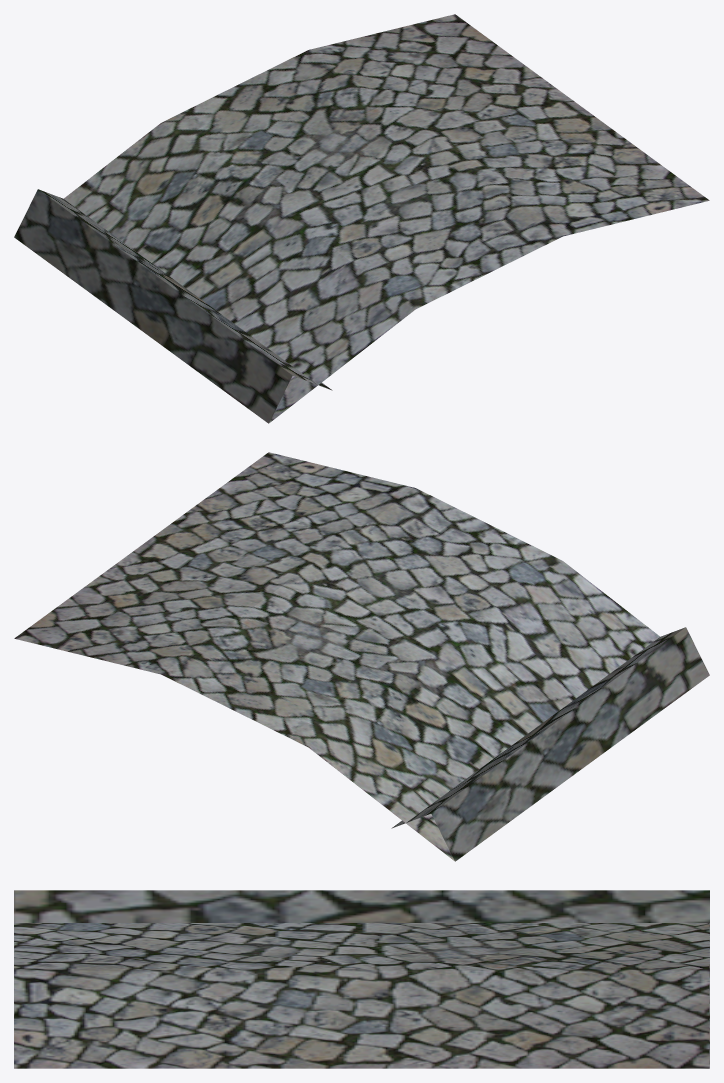
File: BodenGebogen1x1 [PflasterStein]_2348.glb
3 views of the same model, one above another, from view 1: azimuth 30°, elevation 25°; view 2: azimuth 150°, elevation 25°; view 3: azimuth 270°, elevation 25° (orthographic). The views are drawn at different scales.
Visible parts, largest first — view 1: pPlaneShape8, pCylinderShape2; view 2: pPlaneShape8, pCylinderShape2; view 3: pPlaneShape8, pCylinderShape2.
Part boxes in pixels (x1,y1,x2,y2): pPlaneShape8: (64,14,709,423); pCylinderShape2: (14,189,332,423); pPlaneShape8: (14,452,659,861); pCylinderShape2: (391,627,709,861); pPlaneShape8: (14,923,709,1068); pCylinderShape2: (14,890,709,922).
Size of the model in its own units: 0.25 by 0.0625 by 0.25.
Materials: 2 (2 with a texture image).
